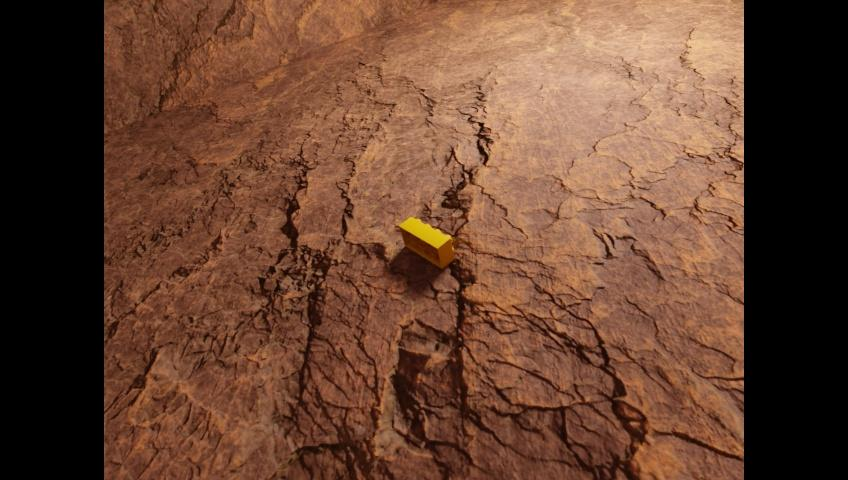4x2_yellow: (399, 216, 453, 268)
